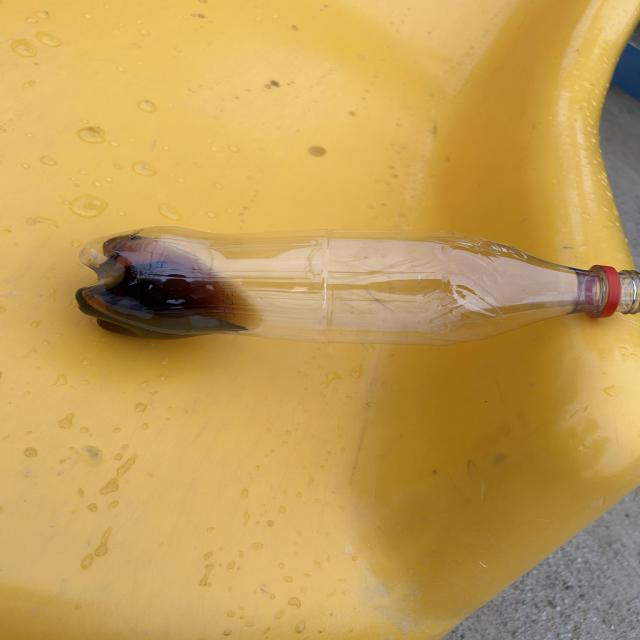low: (75, 227, 640, 344)
